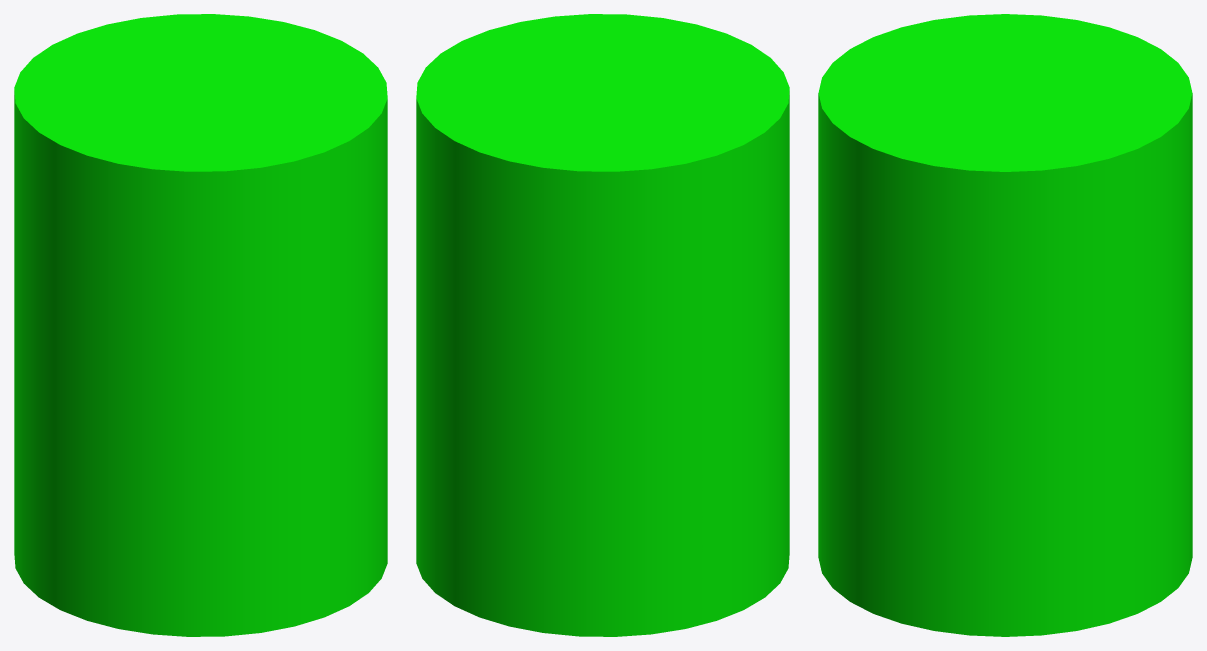
Rendered from Totem.fbx.
3 views of the same model, side by side, from view 1: azimuth 30°, elevation 25°; view 2: azimuth 150°, elevation 25°; view 3: azimuth 270°, elevation 25° (orthographic).
Parts seen in each view (by area): view 1: Totem; view 2: Totem; view 3: Totem.
Part boxes in pixels (box(x1,y1,x2,y2)): Totem: box(14, 14, 387, 636); Totem: box(416, 14, 789, 636); Totem: box(818, 14, 1192, 636).
Size of the model in its own units: 70 by 96 by 70.
